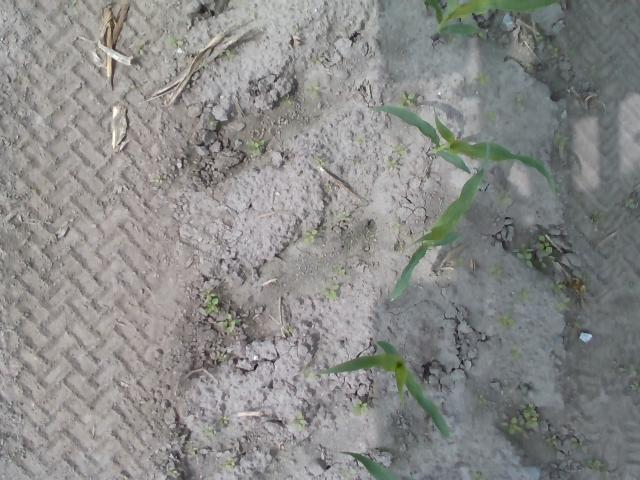Maize: (369, 104, 560, 194), (314, 338, 453, 440), (388, 167, 487, 308), (422, 0, 556, 43), (337, 448, 401, 480)
Weeds: (500, 400, 540, 439), (512, 234, 552, 270), (548, 278, 572, 312), (386, 145, 407, 173), (200, 286, 221, 314), (494, 312, 518, 336), (220, 312, 242, 336), (550, 46, 578, 58), (495, 192, 513, 210), (487, 264, 504, 283), (591, 206, 607, 226), (290, 414, 307, 432), (322, 284, 339, 301), (246, 136, 262, 154), (352, 398, 368, 416), (584, 458, 608, 470), (165, 36, 185, 50), (510, 344, 526, 360), (399, 91, 416, 106), (337, 468, 357, 480), (473, 70, 488, 86), (224, 452, 237, 470), (302, 229, 316, 244), (552, 132, 568, 145), (515, 94, 527, 111), (132, 40, 144, 56), (516, 290, 530, 303), (478, 393, 490, 408), (569, 436, 583, 448), (545, 434, 558, 446), (624, 198, 636, 210), (575, 320, 593, 328), (306, 84, 320, 94), (338, 210, 350, 221), (534, 32, 544, 44), (281, 94, 291, 105), (487, 112, 498, 122), (454, 256, 464, 267), (167, 467, 179, 476), (473, 473, 488, 480), (218, 415, 227, 426), (314, 159, 326, 167), (334, 264, 346, 272), (224, 49, 234, 58), (629, 384, 640, 392)
